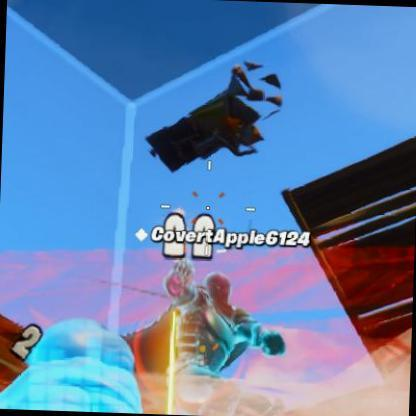person: (167, 274, 250, 408)
